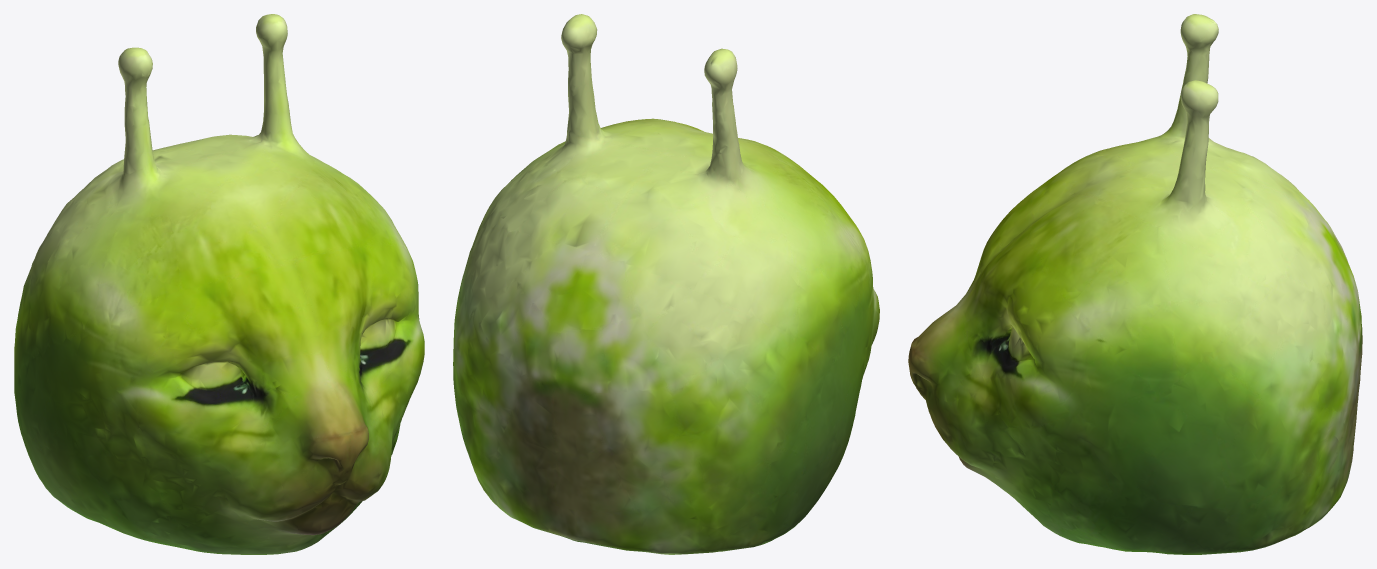
File: zibzib.glb
3 views of the same model, side by side, from view 1: azimuth 30°, elevation 25°; view 2: azimuth 150°, elevation 25°; view 3: azimuth 270°, elevation 25° (orthographic). The views are drawn at different scales.
Parts seen in each view (by area): view 1: ZibZib; view 2: ZibZib; view 3: ZibZib.
Part boxes in pixels (box(x1,y1,x2,y2)): ZibZib: box(14, 14, 424, 554); ZibZib: box(453, 14, 879, 554); ZibZib: box(908, 14, 1362, 554).
Size of the model in its own units: 1.46 by 1.9 by 1.66.
Materials: 1 (1 with a texture image).
